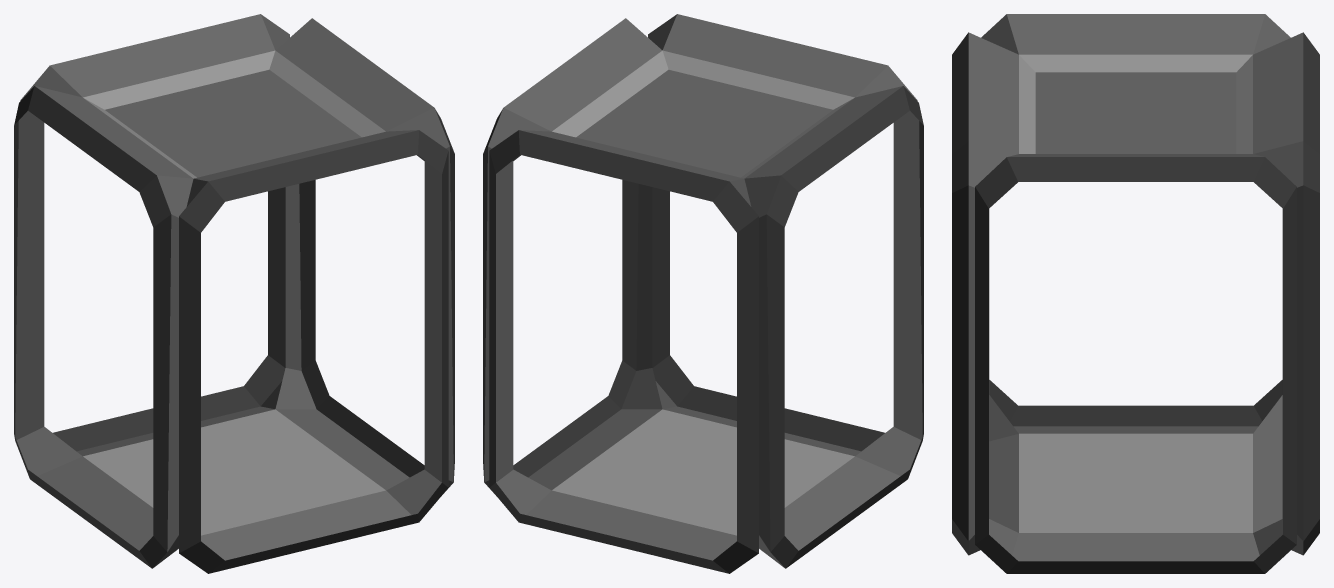
The model's file is Building_Tunnel_Cross.fbx.
3 views of the same model, side by side, from view 1: azimuth 30°, elevation 25°; view 2: azimuth 150°, elevation 25°; view 3: azimuth 270°, elevation 25° (orthographic). The views are drawn at different scales.
Parts seen in each view (by area): view 1: Building_Tunnel_Cross; view 2: Building_Tunnel_Cross; view 3: Building_Tunnel_Cross.
Boxes of the visible parts, x1,y1,x2,y2 form: Building_Tunnel_Cross: (14,14,454,573); Building_Tunnel_Cross: (483,14,923,573); Building_Tunnel_Cross: (952,14,1319,573).
Bounding box in the file's own units: 200 × 249 × 200.
